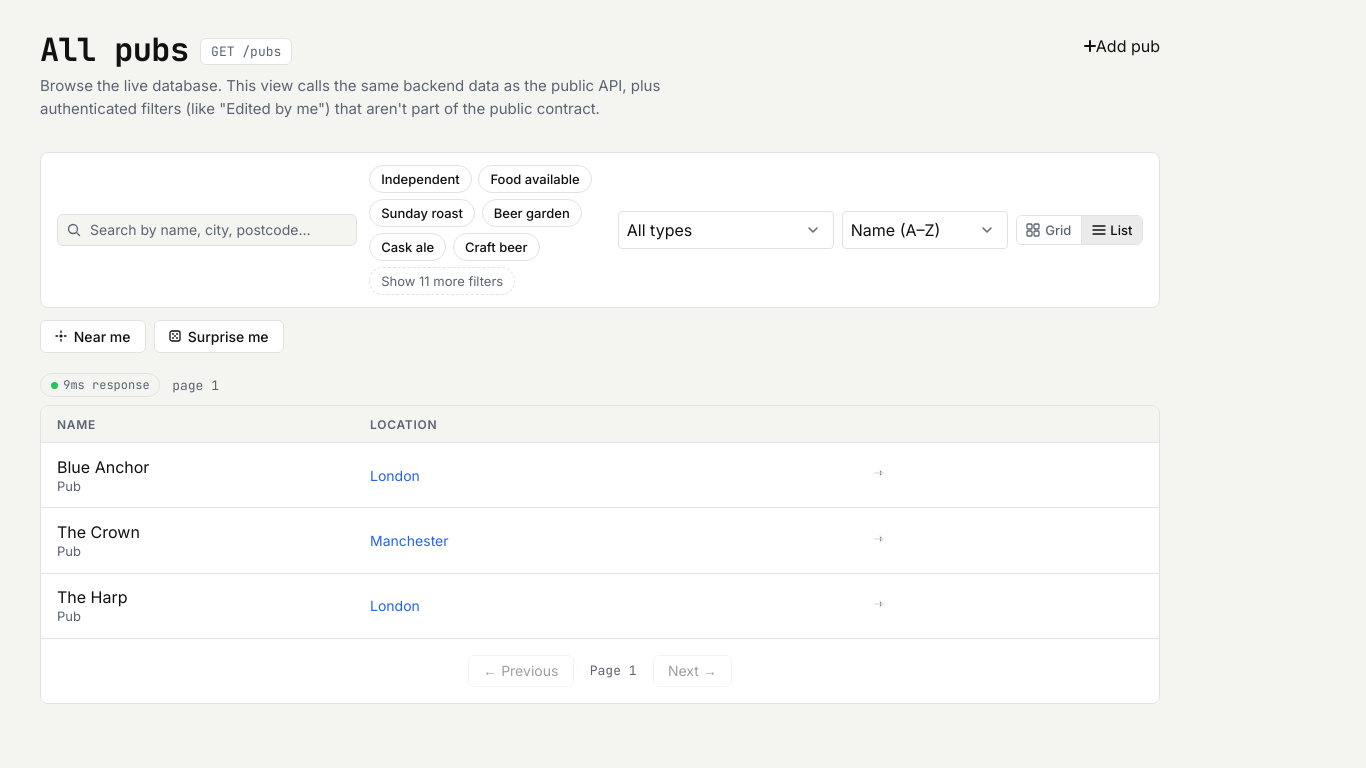
Scenario: Pubs page › search filtering › filters pubs by name after debounce
The width and height of the screenshot is (1366, 768).
Expected: the link "The Harp" is shown, [57,587,128,607]
Type "harp" into the search field with placeholder "Search by name, city, postcode...". click: (207, 230)
box: [57,214,357,246]
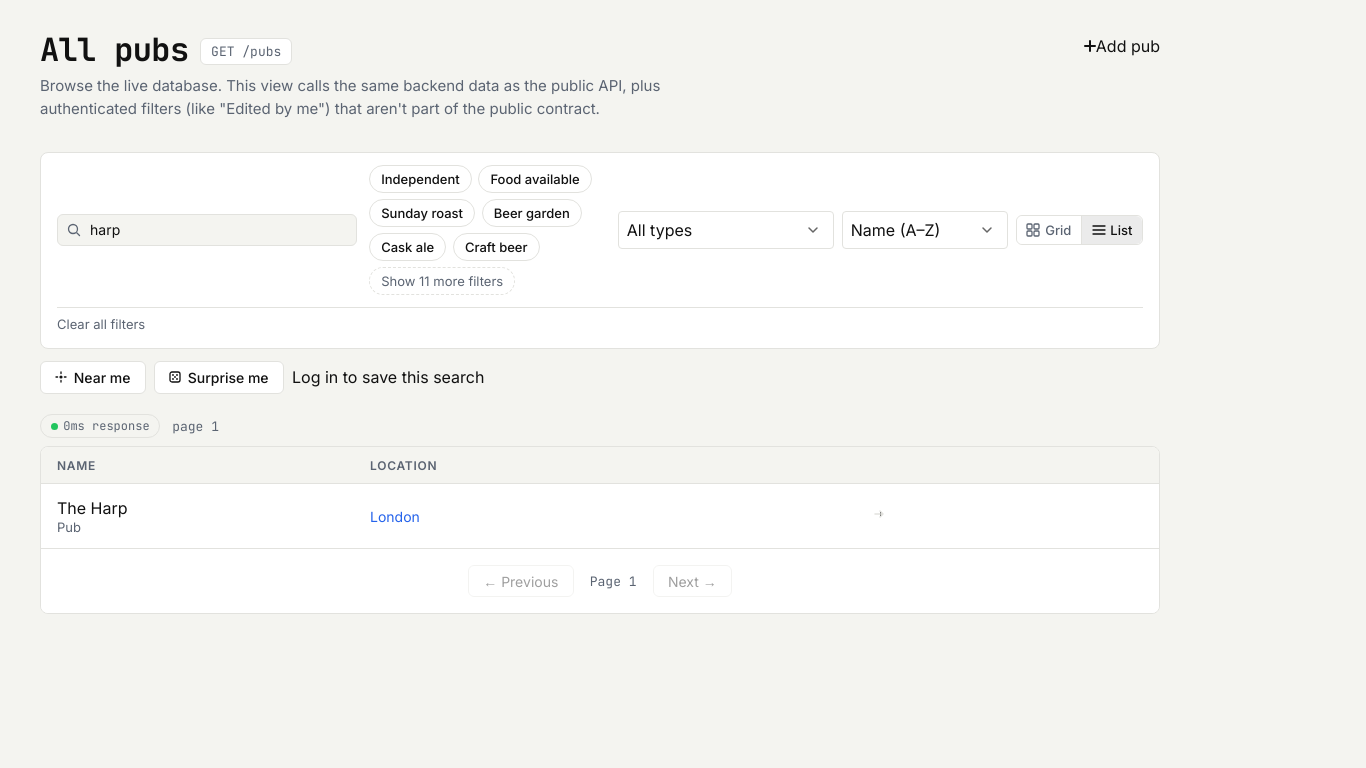
Expected: the link "The Harp" is shown, [57,498,128,518]
Now the link "The Crown" is gone
Now the link "Blue Anchor" is gone
